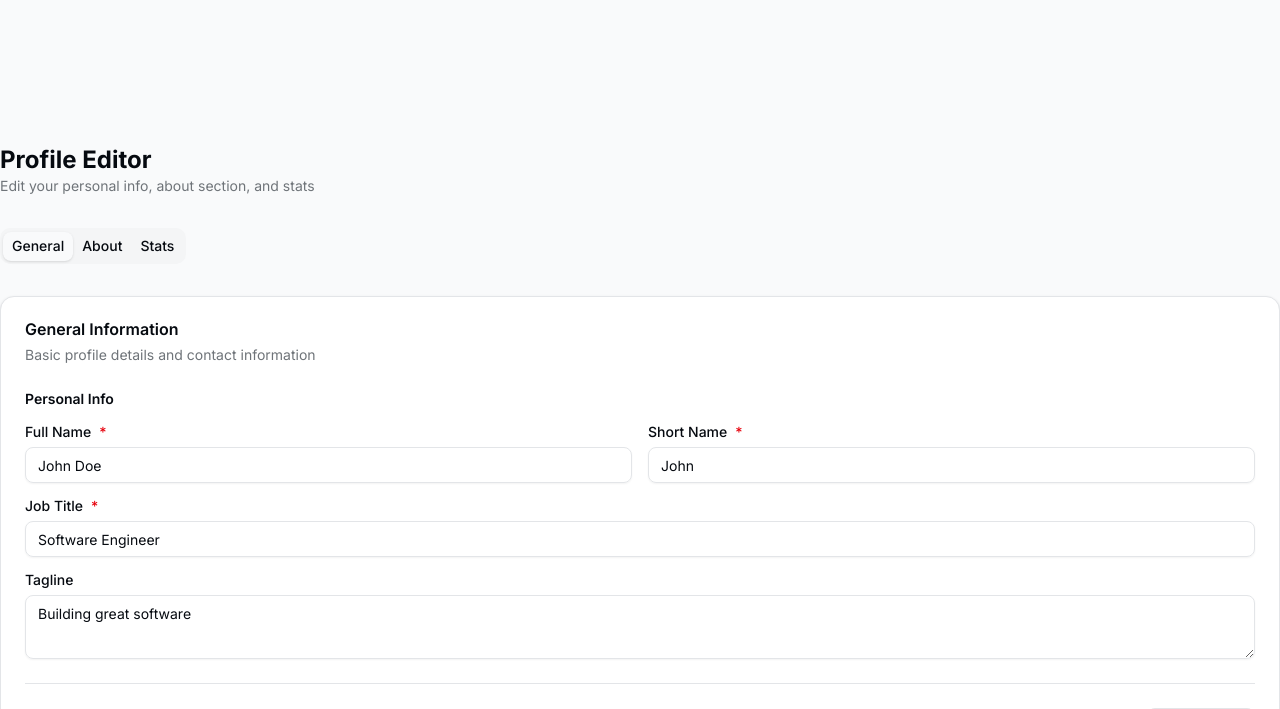
Test: ProfileForm › switches to About tab and renders about fields
The width and height of the screenshot is (1280, 709).
Click the tab "About": (102, 246) [73,232,131,260]
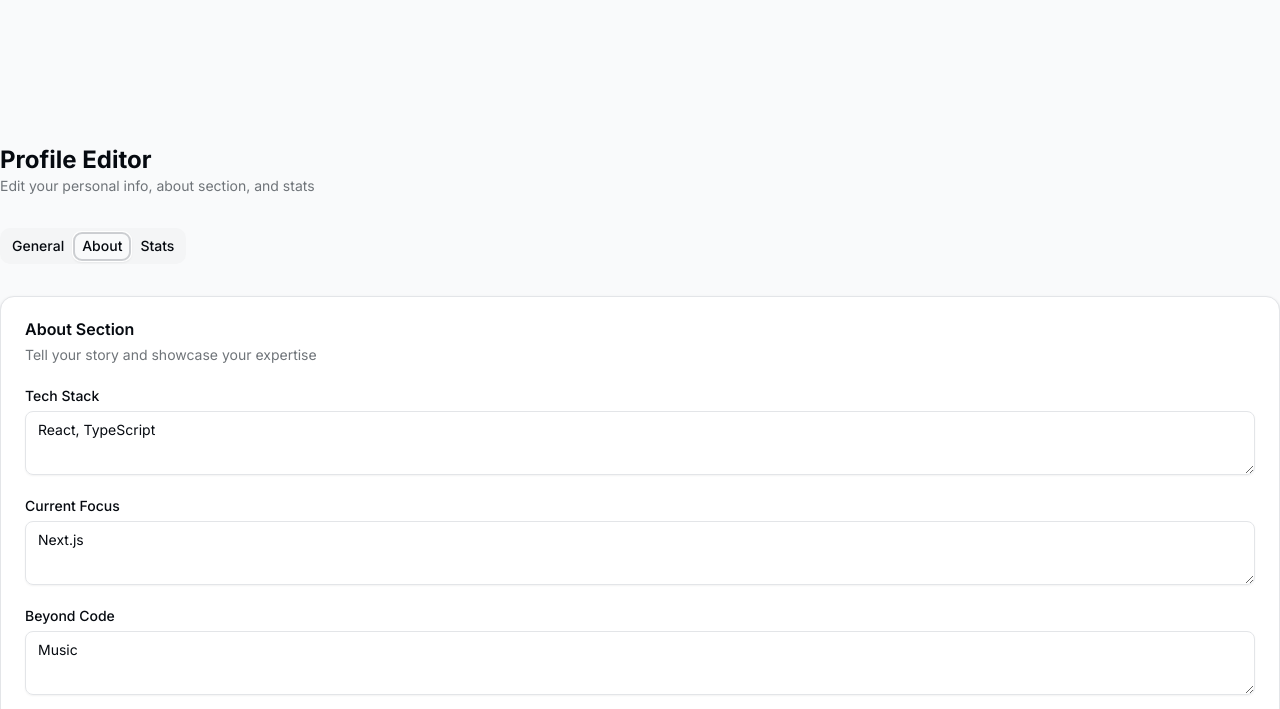
Check: the text box labelled "Tech Stack" holds "React, TypeScript", box [25,411,1255,475]
Check: the text box labelled "Current Focus" holds "Next.js", box [25,521,1255,585]
